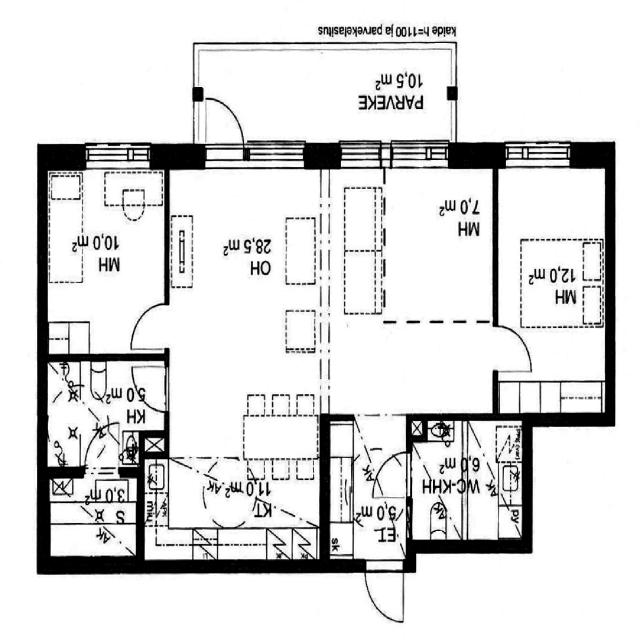door: (199, 90, 248, 155), (362, 558, 408, 627), (125, 298, 173, 354), (490, 321, 533, 379), (136, 361, 173, 419), (375, 450, 413, 505)
window: (500, 137, 577, 169), (245, 134, 311, 170), (82, 139, 154, 169), (388, 138, 452, 168), (335, 138, 384, 168)
zone: (164, 180, 333, 541), (494, 155, 611, 414), (42, 160, 170, 359), (377, 161, 494, 323), (409, 417, 526, 545), (42, 357, 166, 469), (336, 420, 414, 552), (46, 472, 140, 560)
